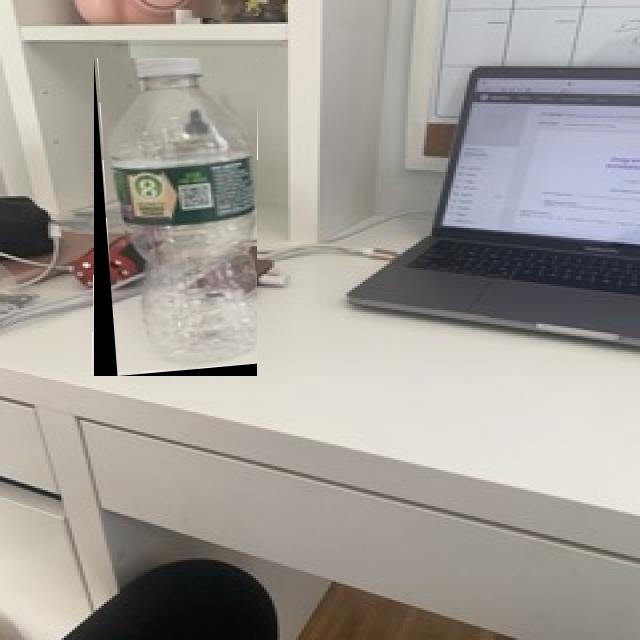water_bottle: (94, 58, 257, 376)
